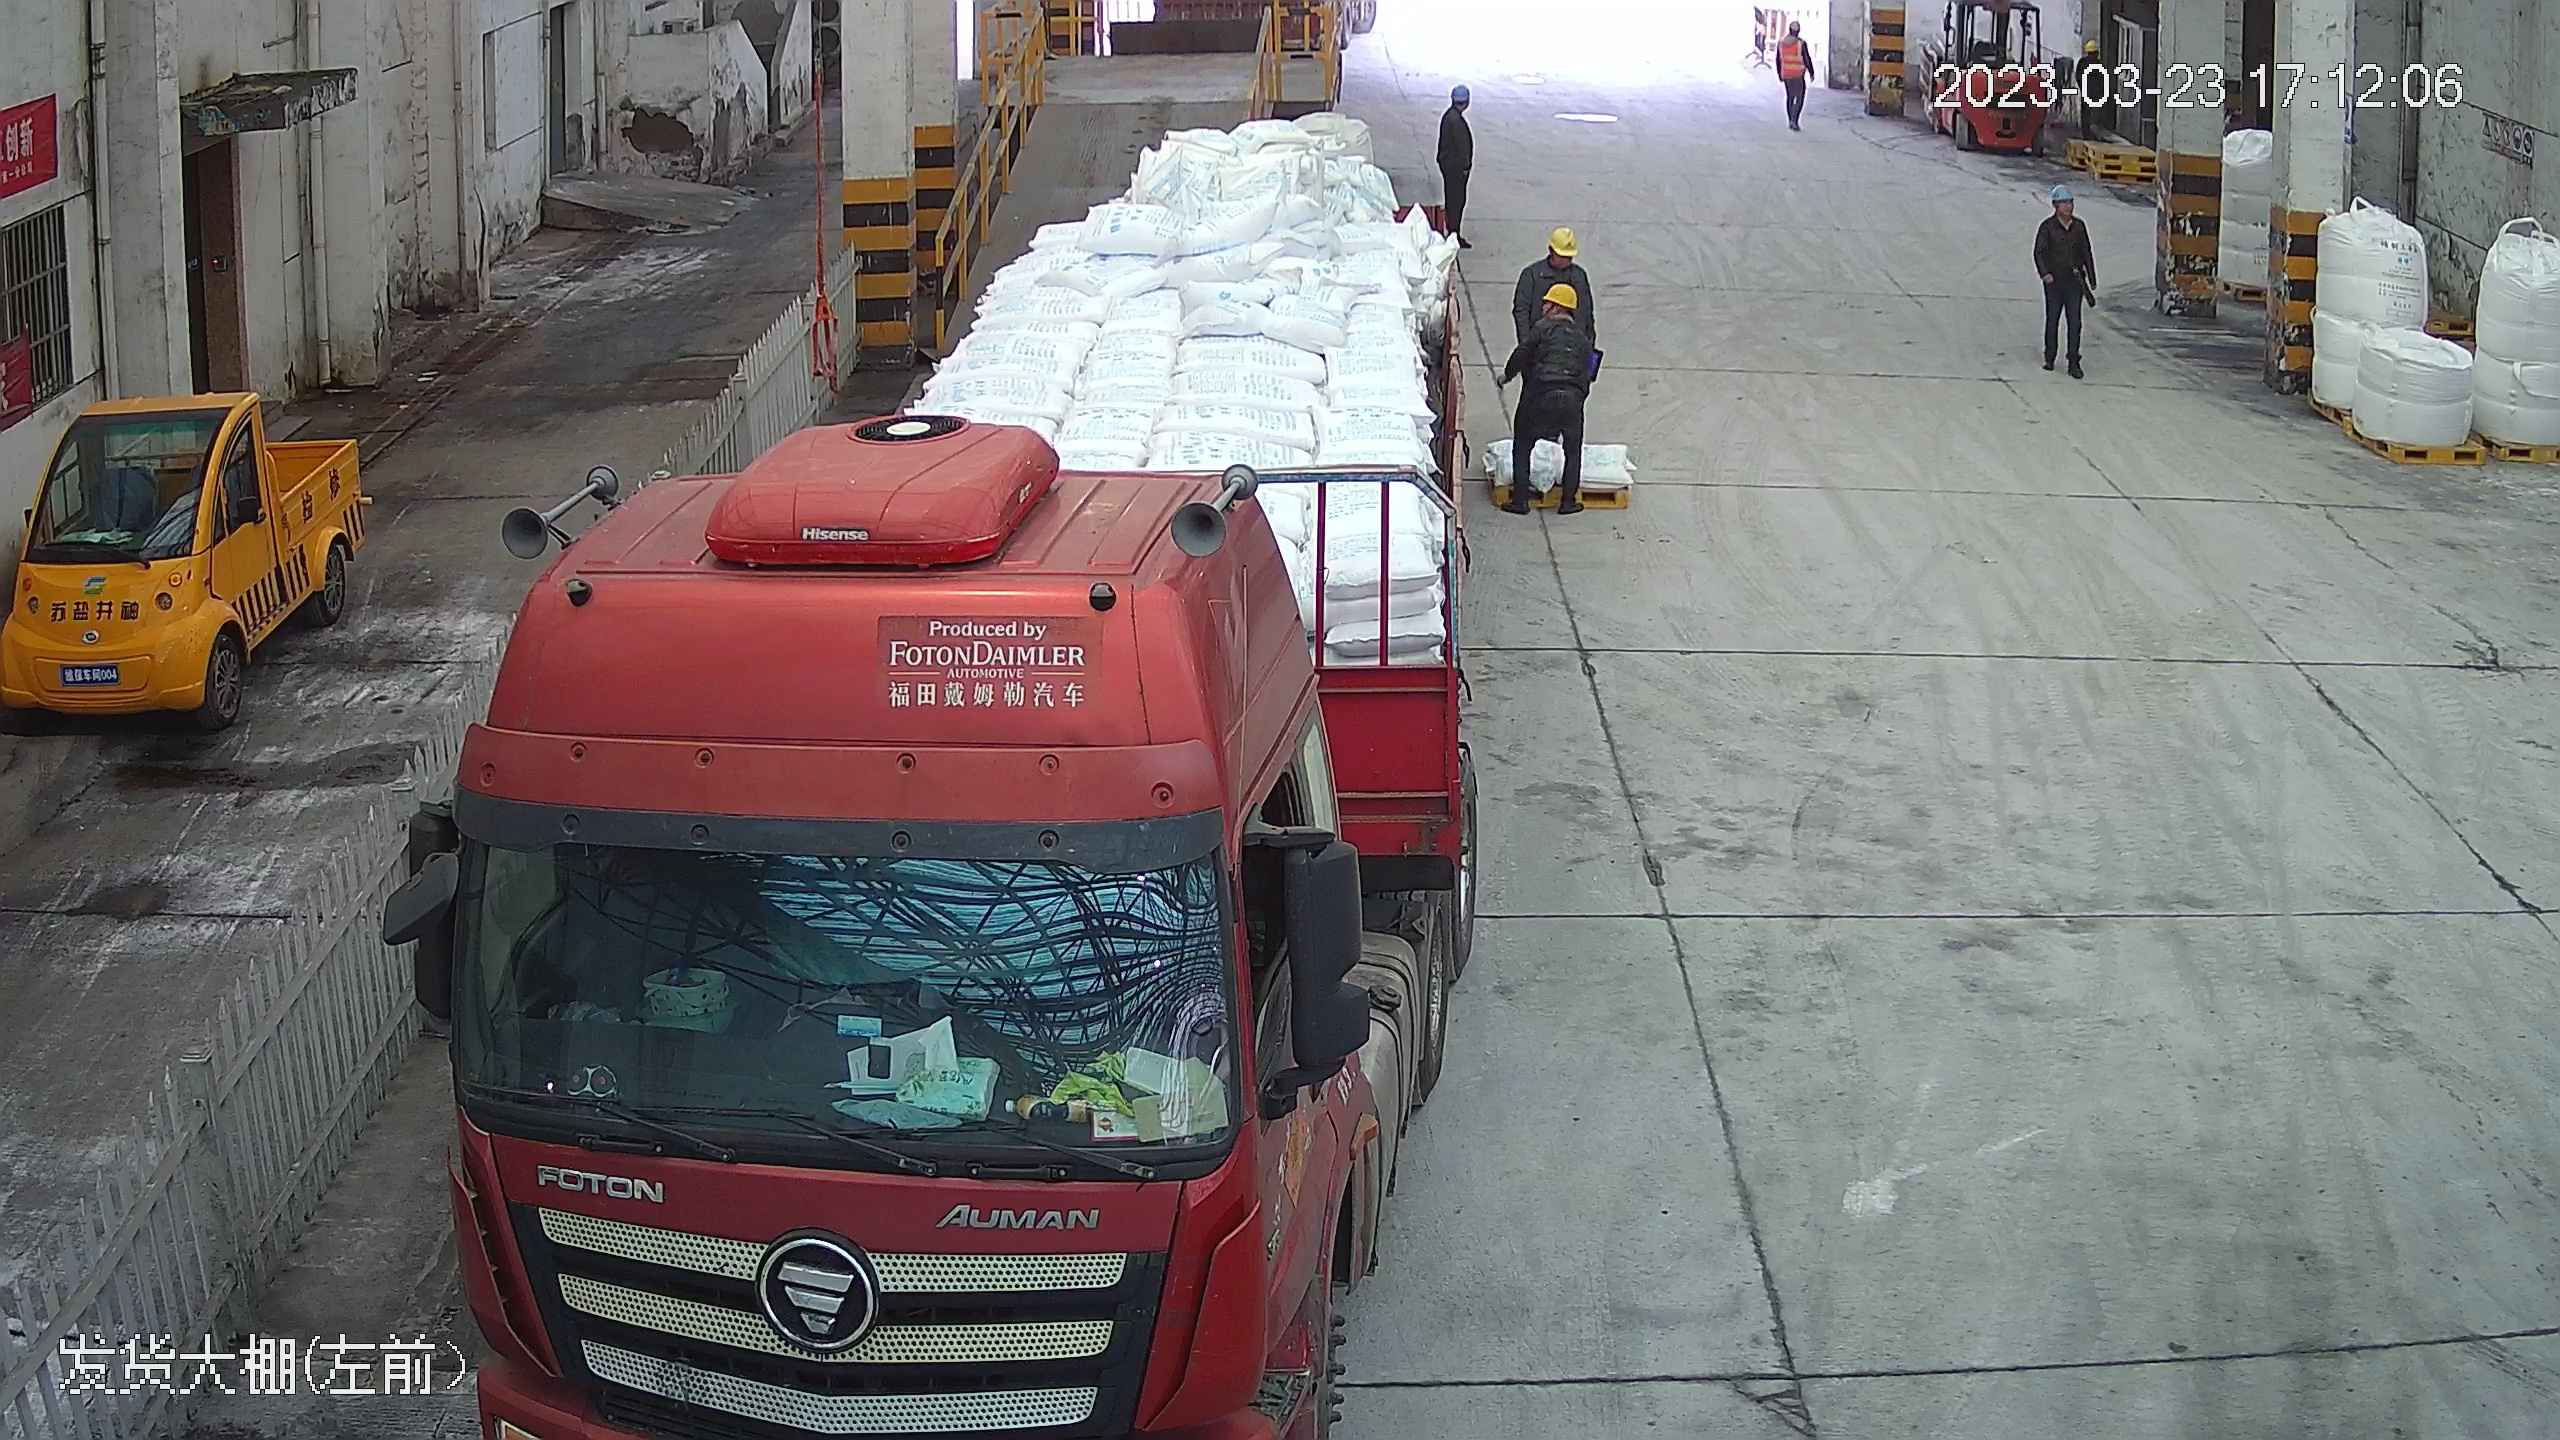head: (1519, 278, 1595, 352), (1522, 223, 1588, 290), (2038, 189, 2089, 244), (1435, 82, 1476, 132), (1777, 17, 1807, 53)
helmet: (1537, 280, 1577, 313), (1543, 223, 1580, 253), (1442, 81, 1471, 103), (2047, 191, 2073, 212), (2083, 38, 2101, 54), (1788, 20, 1801, 33)
people: (1503, 268, 1600, 517), (2029, 187, 2100, 379), (1428, 81, 1483, 239), (1774, 17, 1817, 134)
truck: (398, 19, 1508, 1440)
